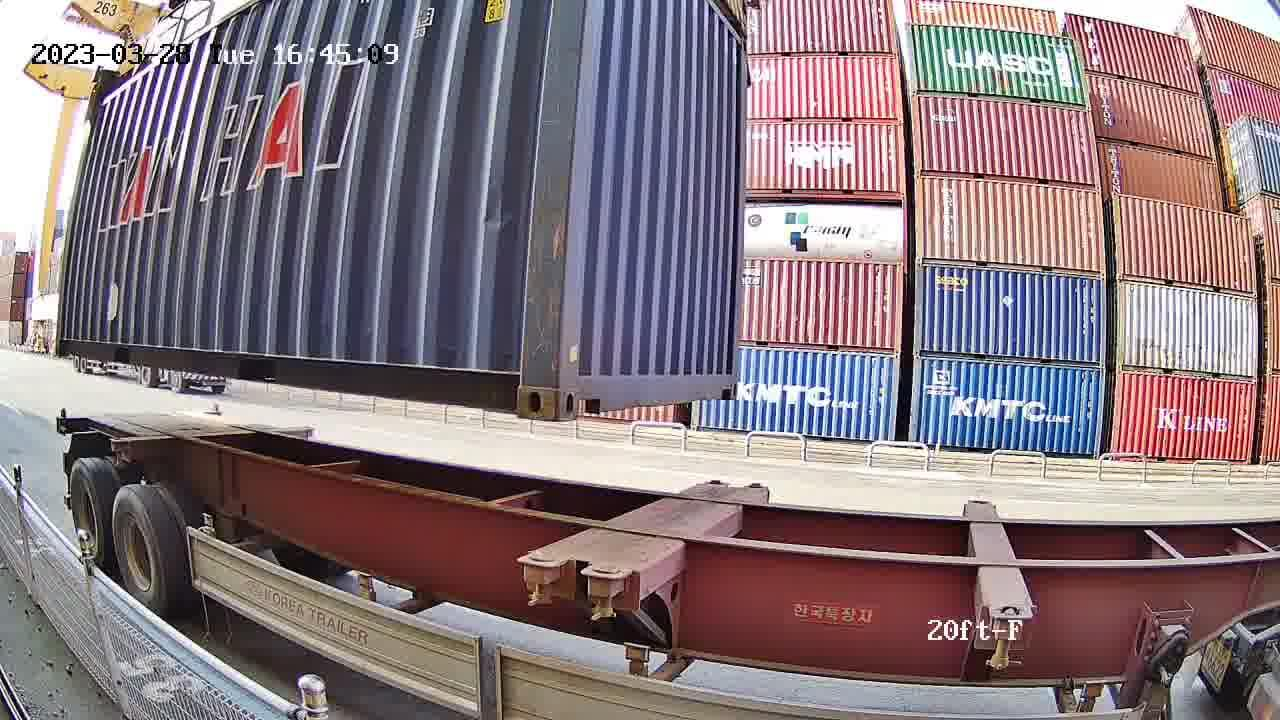Chassis: (583, 486, 772, 605), (519, 480, 730, 568)
Cone: (516, 553, 570, 610), (579, 566, 631, 624)
Hole_L: (556, 353, 609, 421)
Hole_R: (479, 347, 557, 420), (719, 367, 740, 401)
Tire: (112, 488, 166, 611), (67, 461, 108, 567)
